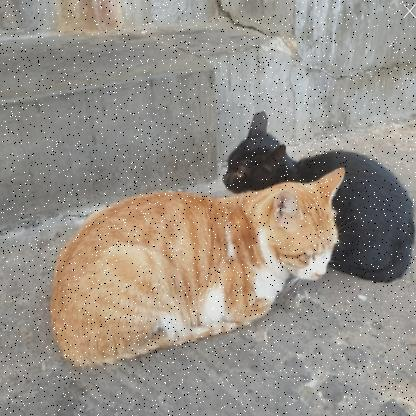cat: (52, 165, 349, 362), (220, 96, 415, 292)
